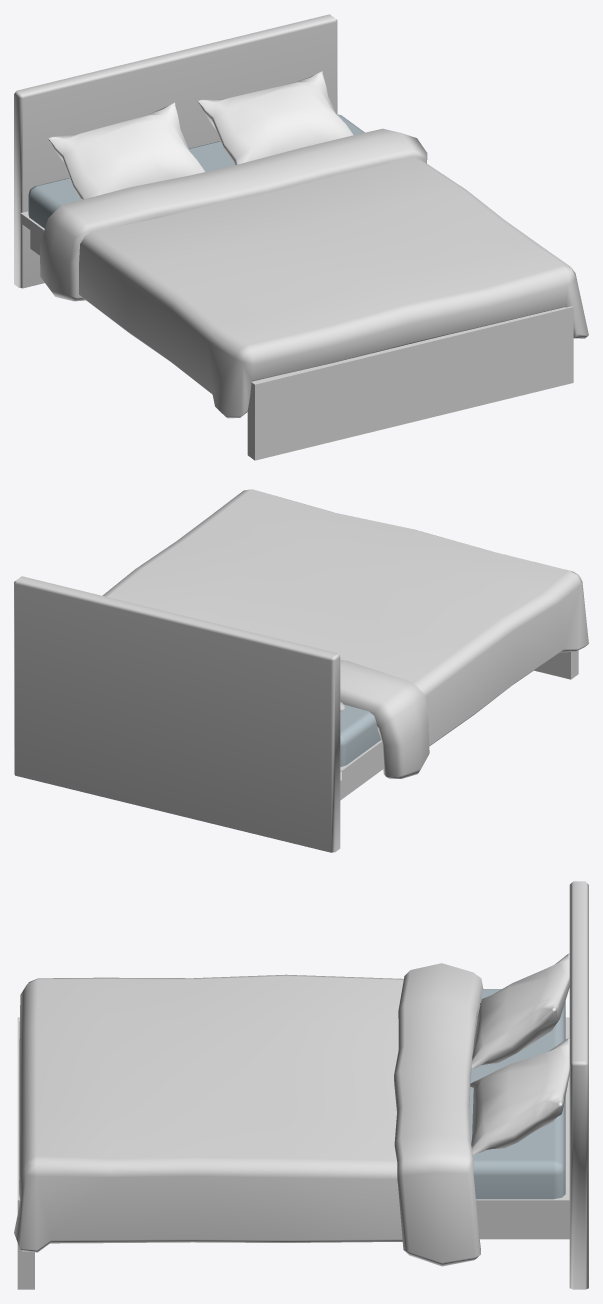
File: bed_021.fbx
3 renders of one model, top to bottom at view 1: azimuth 30°, elevation 25°; view 2: azimuth 150°, elevation 25°; view 3: azimuth 270°, elevation 25°, orthographic. The views are drawn at different scales.
Parts seen in each view (by area): view 1: bed_021; view 2: bed_021; view 3: bed_021.
Boxes of the visible parts, bbox=[...] form: bed_021: bbox=[14, 14, 588, 460]; bed_021: bbox=[14, 489, 588, 852]; bed_021: bbox=[14, 881, 588, 1289].
Size of the model in its own units: 219 by 254 by 111.
